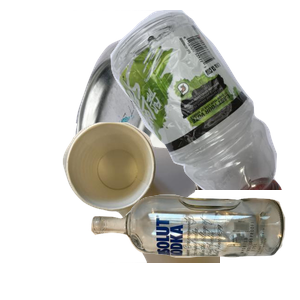glass: (88, 192, 300, 300)
metal: (73, 34, 285, 214)
plastic: (73, 10, 300, 190)
trash: (60, 120, 300, 300)
